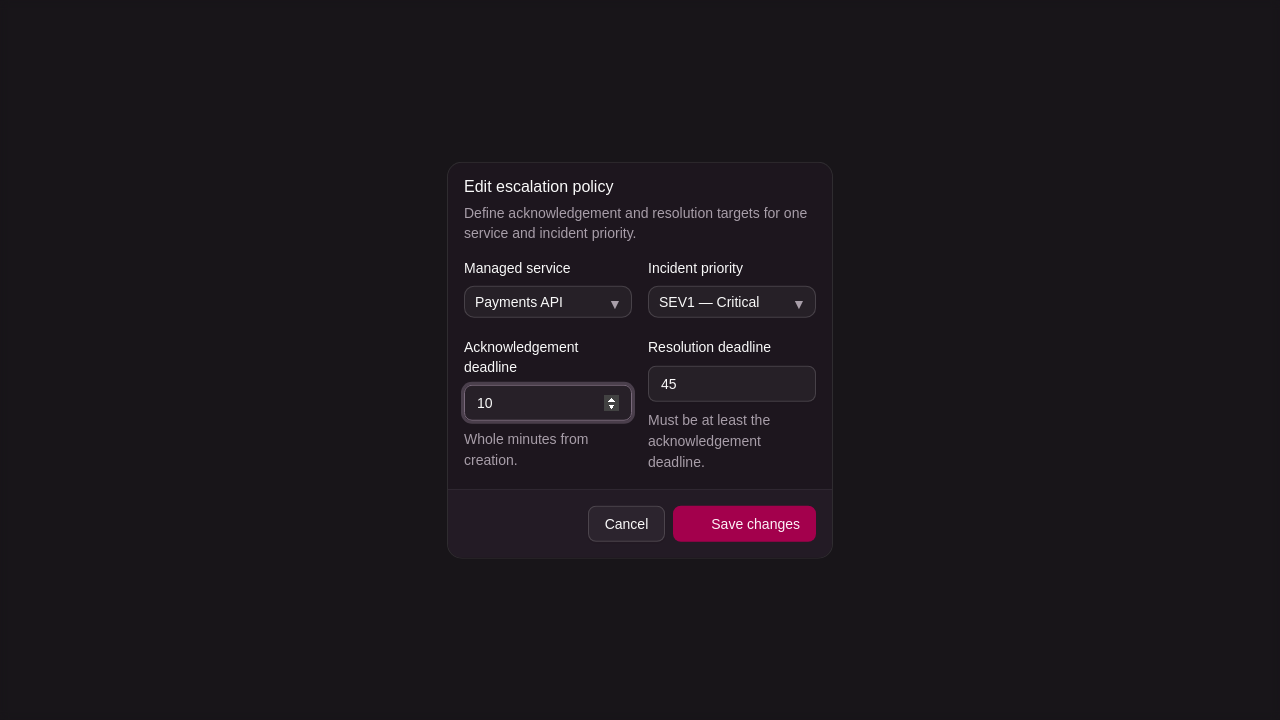
Test: PolicyFormDialog › maps server field errors to the matching control and preserves values
Replace the text in the number field labelled "Acknowledgement deadline" with "20" at (548, 402), box top-left (464, 384), bottom-right (632, 420)
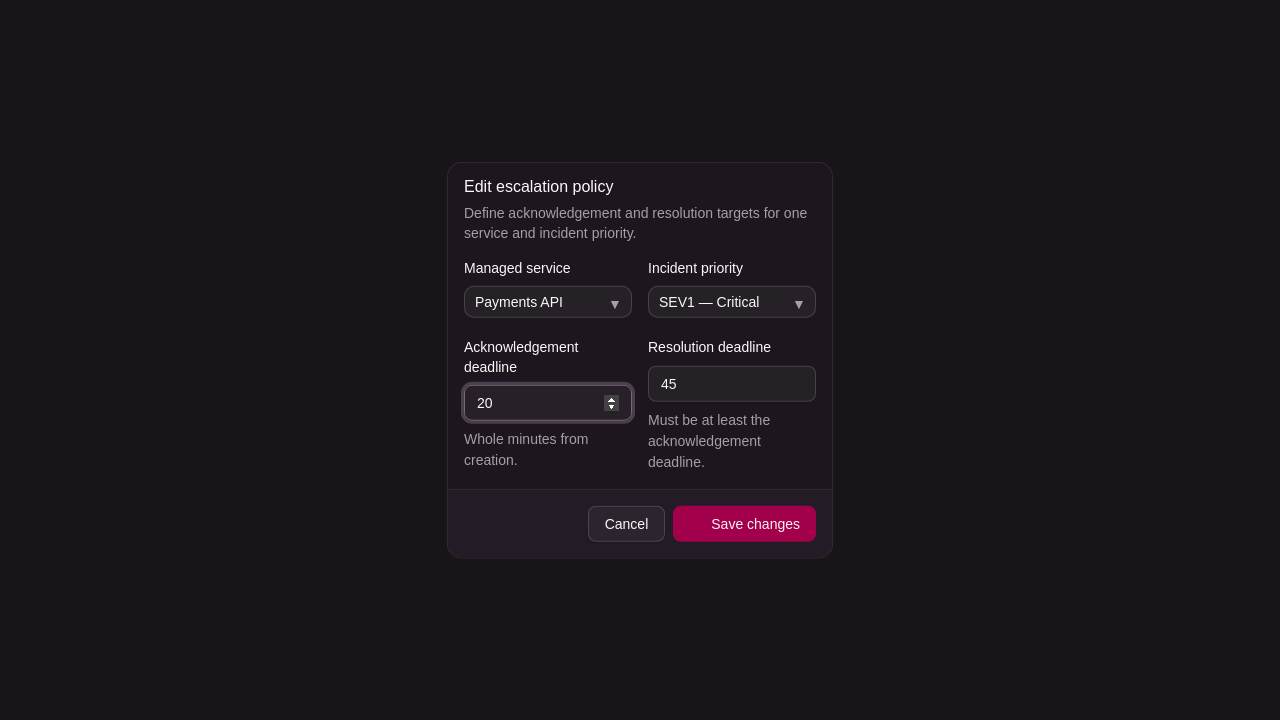
Click the button "Save changes" at (745, 523), box top-left (673, 505), bottom-right (816, 541)
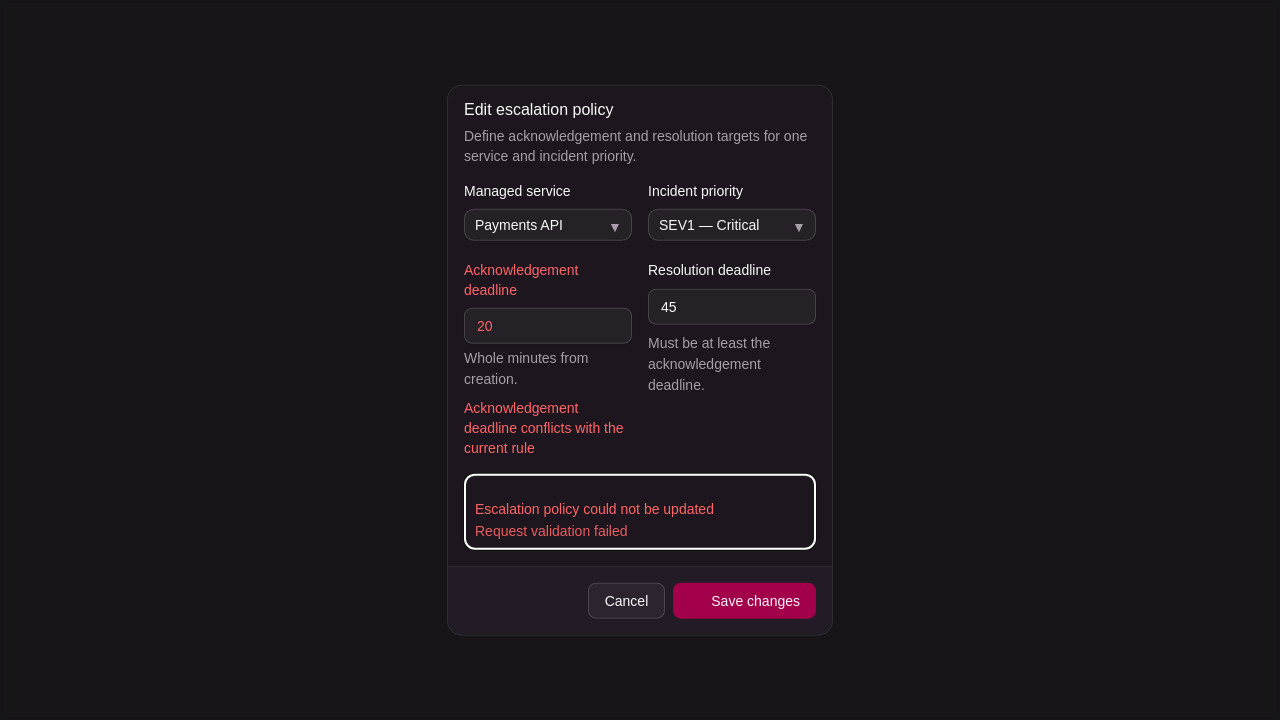
Expected: the number field labelled "Resolution deadline" holds "45", top-left (648, 288), bottom-right (816, 324)
Result: the text "Acknowledgement deadline conflicts with the current rule" is shown at top-left (464, 397), bottom-right (632, 457)
